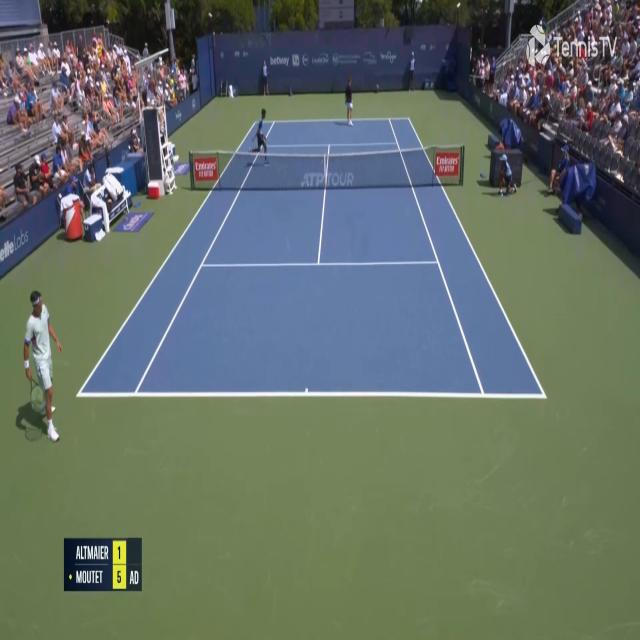tennis-player: (16, 284, 64, 448), (343, 73, 355, 128)
